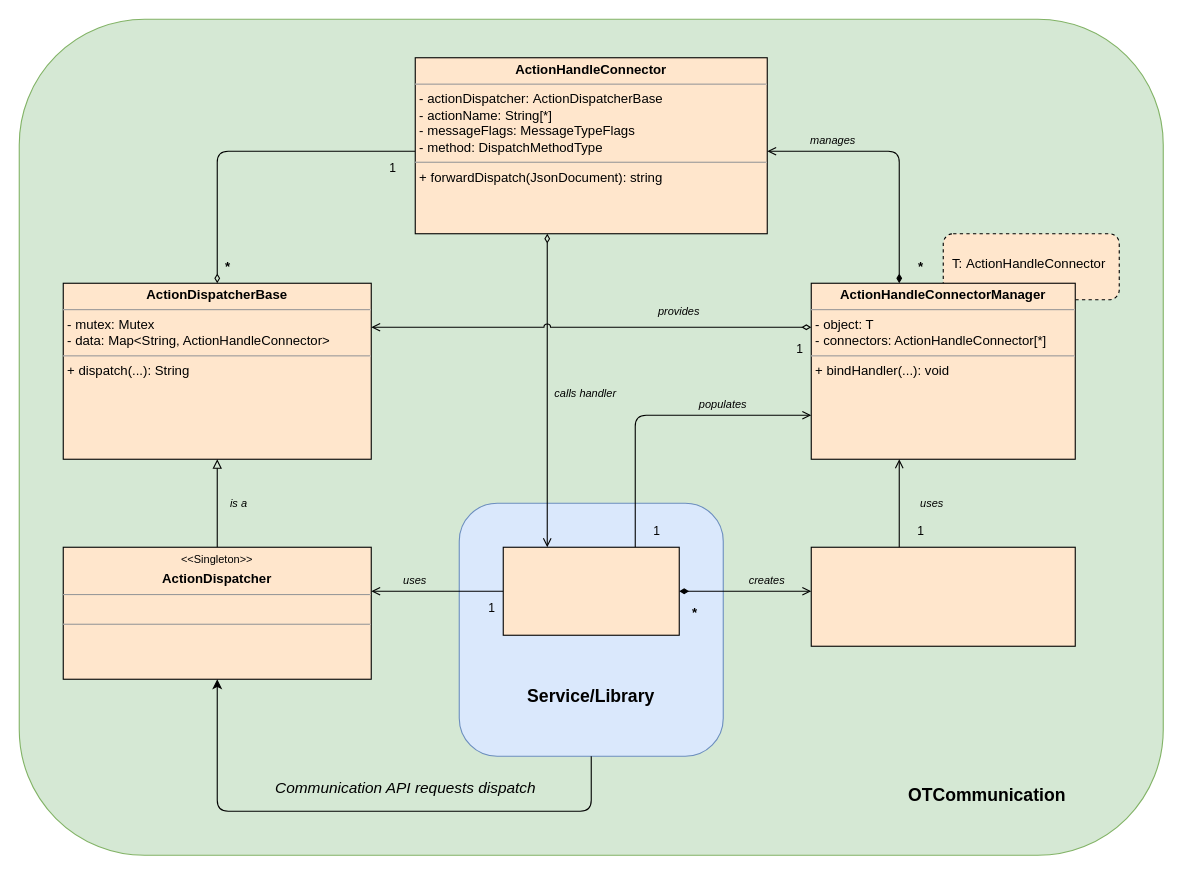
Some shapes in this 1183 by 875 pixel diagram are drawn without their labels. The shapes that lost their labels are listed below. From the top down, each one's box as (x1, y1, x2, y2) in pixels, then its label:
(502, 546, 679, 635): MyClass
(810, 546, 1075, 646): ActionHandleInlineConnector
